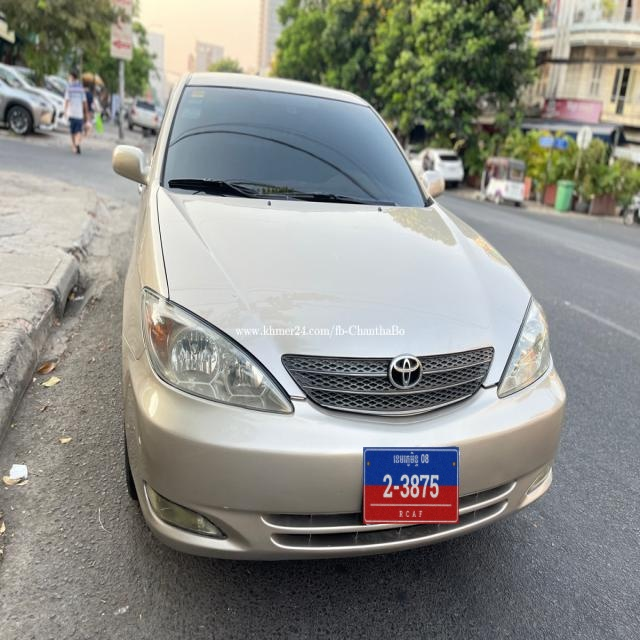Plate Number: (363, 447, 459, 525)
